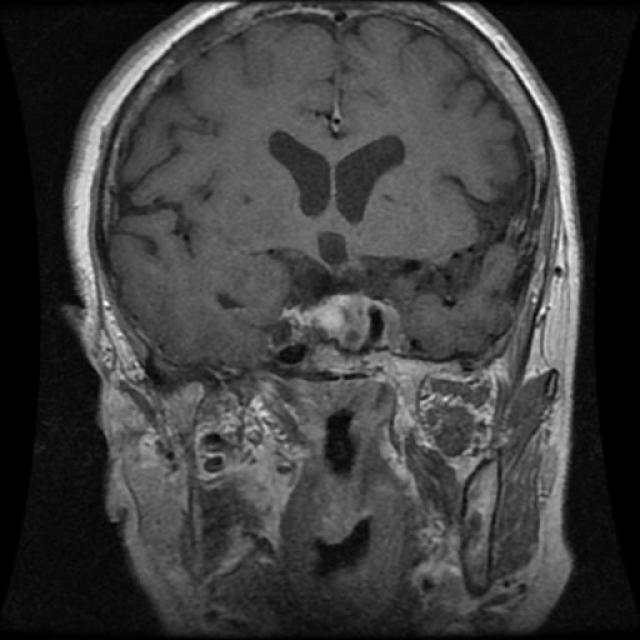pituitary: (274, 266, 386, 372)
